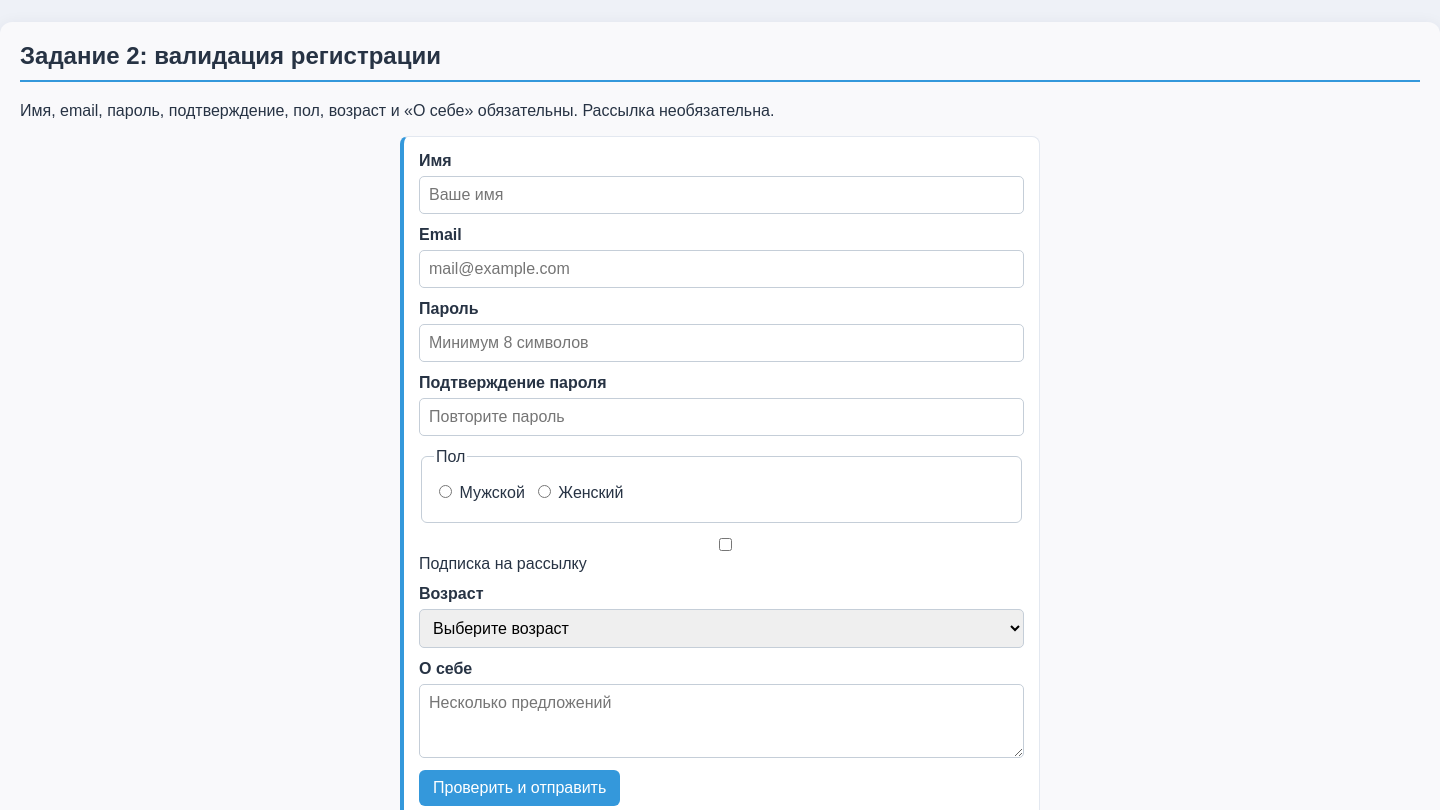
валидация показывает все обязательные поля
Click the button "Проверить и отправить" at (520, 788), box [419,770,620,806]
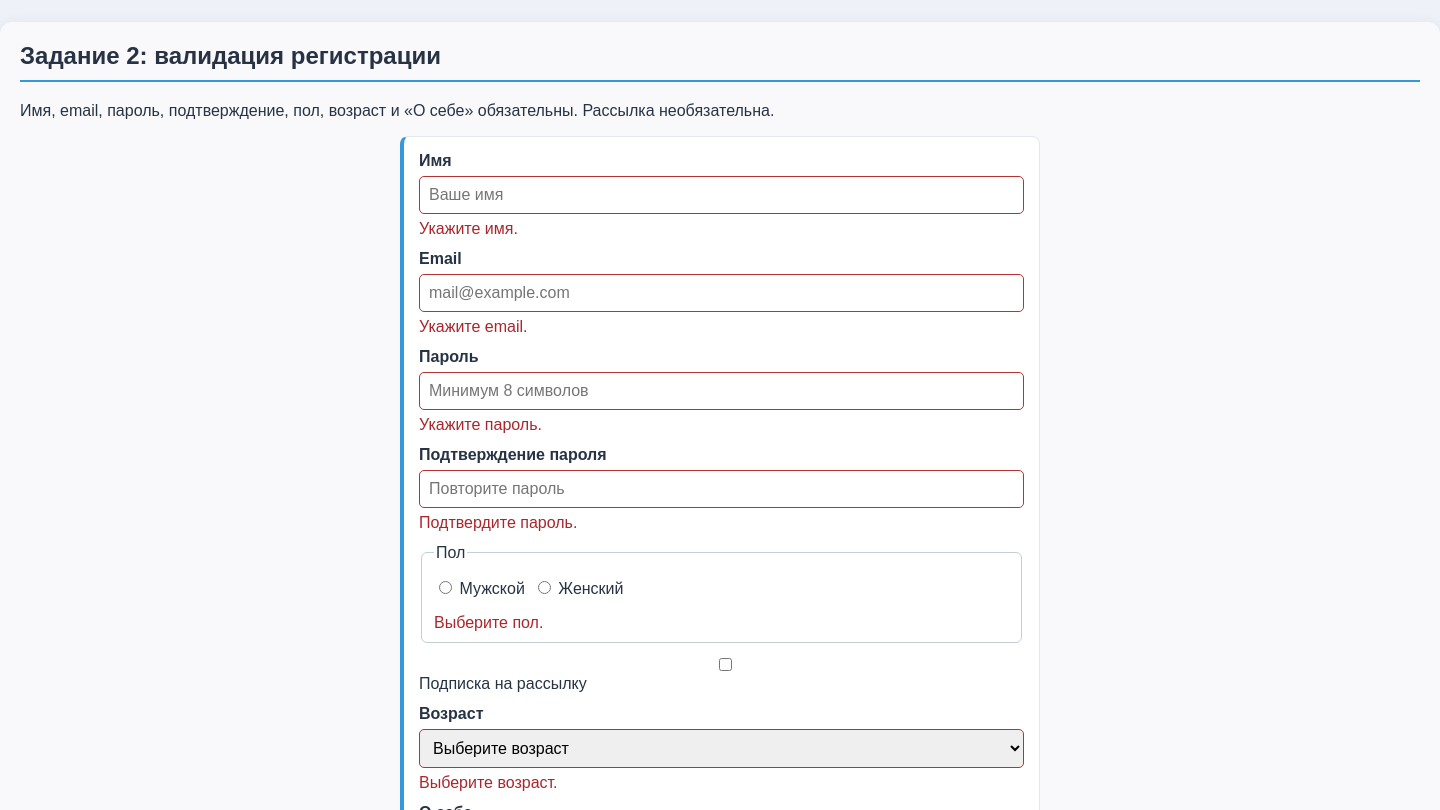
Expected: the text "Укажите имя." is shown, [419,220,518,237]
Expected: the text "Укажите email." is shown, [419,318,528,335]
Expected: the text "Выберите возраст." is shown, [419,774,558,790]
